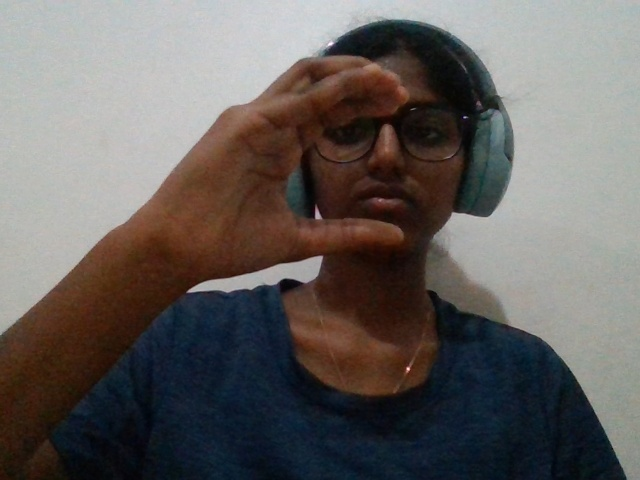C: (89, 27, 485, 333)
